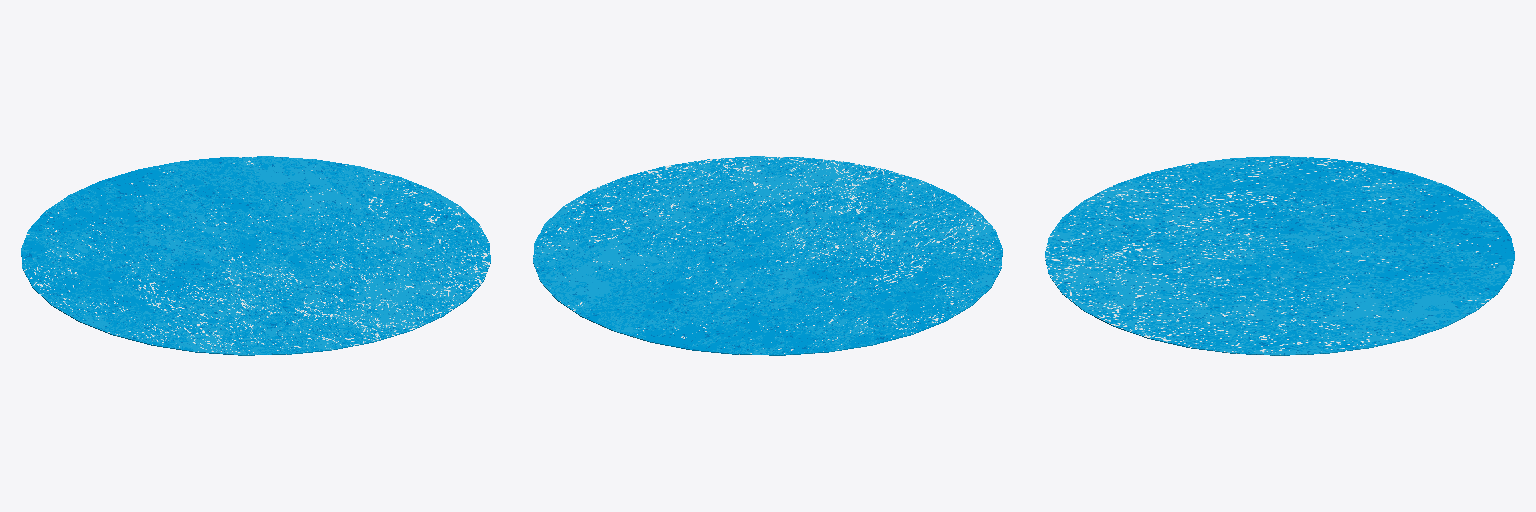
3 views of the same model, side by side, from view 1: azimuth 30°, elevation 25°; view 2: azimuth 150°, elevation 25°; view 3: azimuth 270°, elevation 25° (orthographic).
Parts seen in each view (by area): view 1: 円柱.001; view 2: 円柱.001; view 3: 円柱.001.
Part boxes in pixels (x1,y1,x2,y2): 円柱.001: (21,156,490,355); 円柱.001: (533,156,1002,355); 円柱.001: (1045,156,1514,355).
Bounding box in the file's own units: 279 × 0.5 × 279.
1 materials, 1 textured.